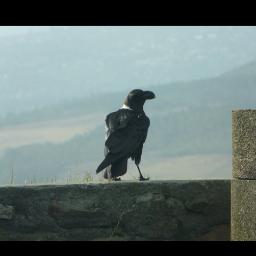Crow: (95, 88, 158, 181)
